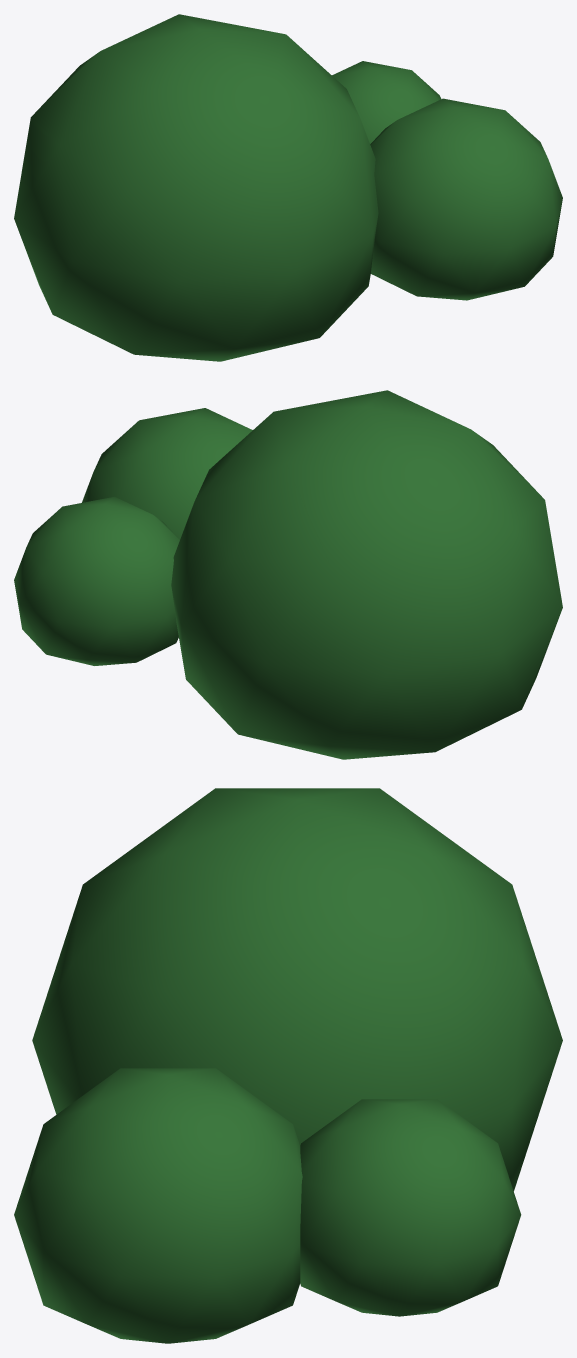
The model's file is semak.fbx.
The picture shows the model from 3 angles, top to bottom: view 1: azimuth 30°, elevation 25°; view 2: azimuth 150°, elevation 25°; view 3: azimuth 270°, elevation 25°; orthographic projection. The views are drawn at different scales.
Visible parts, largest first — view 1: semak; view 2: semak; view 3: semak.
Boxes of the visible parts, x1,y1,x2,y2 form: semak: [14, 14, 562, 361]; semak: [14, 390, 562, 759]; semak: [14, 788, 562, 1343].
Size of the model in its own units: 4392 by 2674 by 3275.
